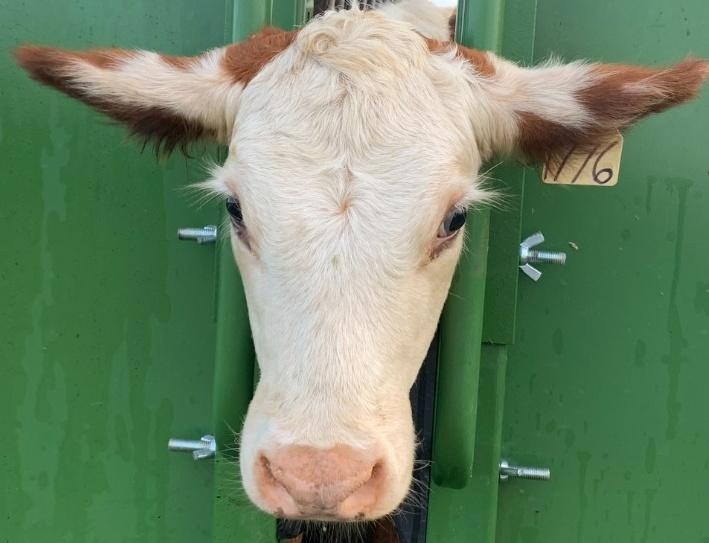muzzles: (228, 426, 429, 533)
